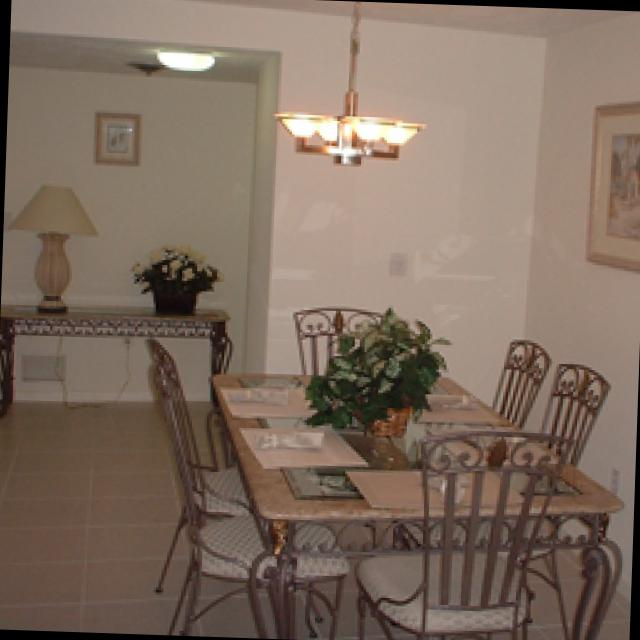bouquet: (305, 305, 439, 433), (129, 245, 222, 310)
ceiling beam: (211, 0, 626, 30), (11, 32, 274, 77)
ceiling lamps: (272, 111, 420, 160), (152, 51, 217, 73)
chair: (534, 363, 606, 459), (290, 303, 380, 370), (487, 339, 546, 417)
chair -occluded-: (148, 362, 346, 636), (356, 427, 566, 640)
lamp crop: (3, 179, 93, 303)
napkin ring: (415, 468, 470, 500), (253, 430, 324, 445), (230, 387, 288, 399), (437, 389, 473, 407)
painting crop: (582, 99, 640, 266), (93, 107, 137, 161)
place mat: (239, 420, 365, 468), (350, 469, 524, 499), (220, 384, 317, 417)
side: (0, 301, 225, 411)
table -X: (211, 364, 616, 511)
wall clock: (10, 0, 543, 409)
